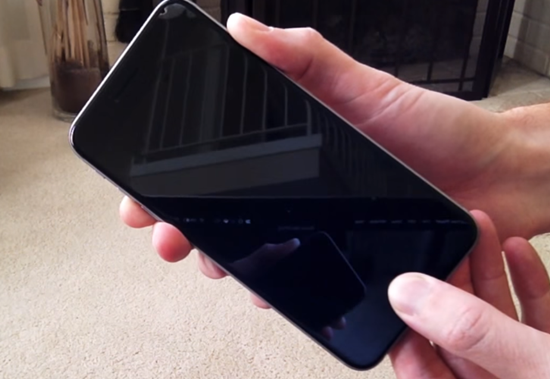Phone: (69, 1, 481, 371)
